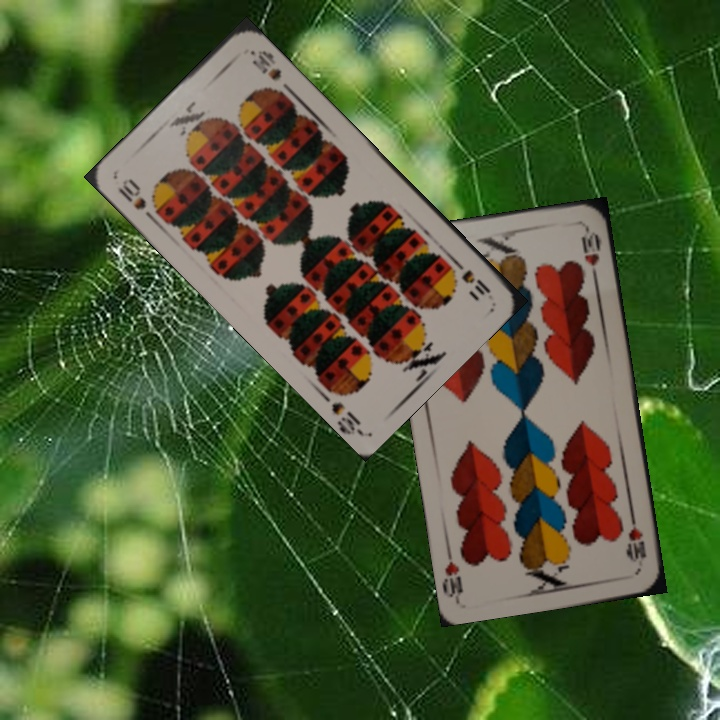H10: (624, 511, 649, 565)
S10: (113, 174, 163, 225), (448, 254, 494, 299)
